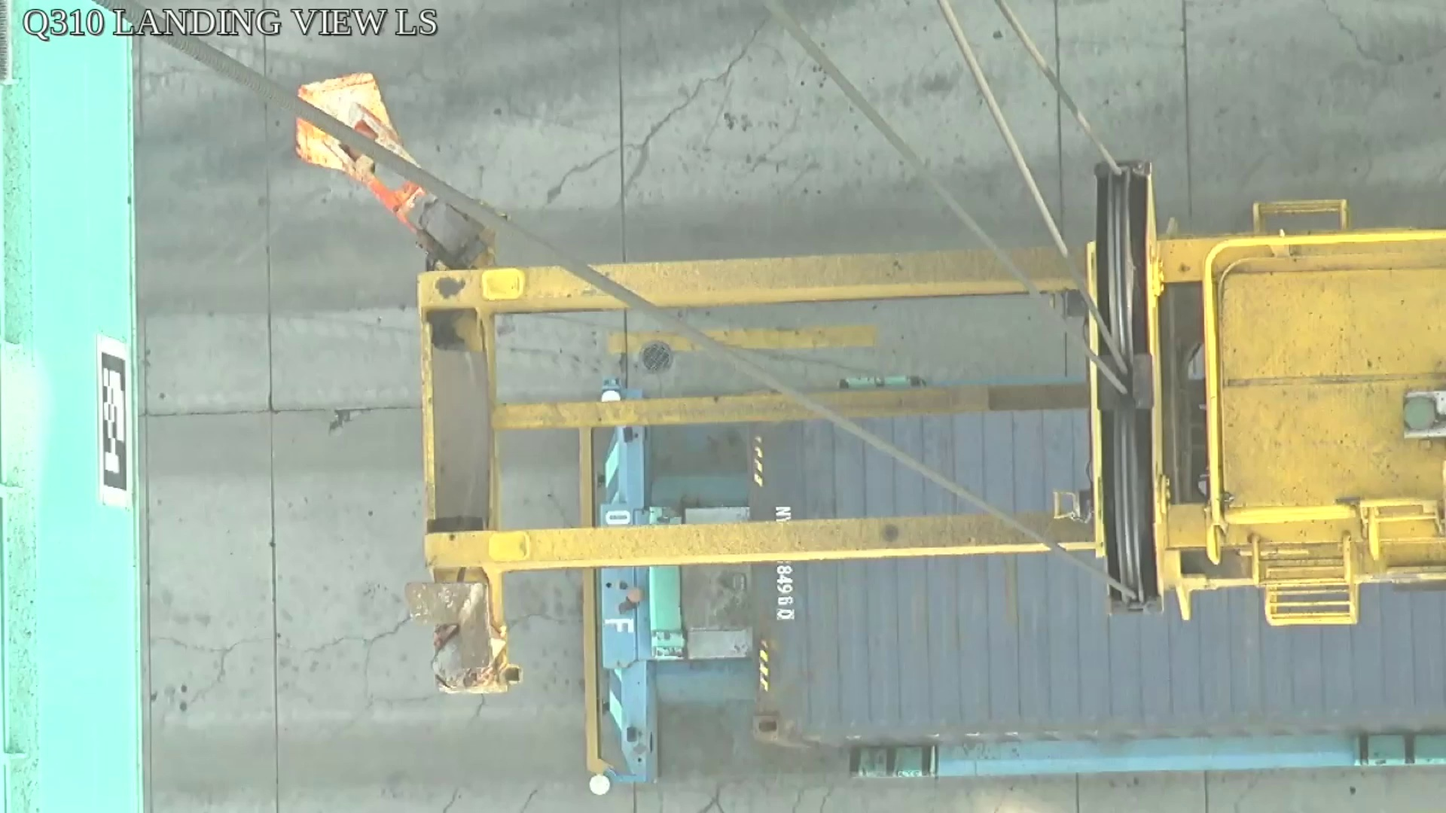aa: (1086, 163, 1171, 617)
